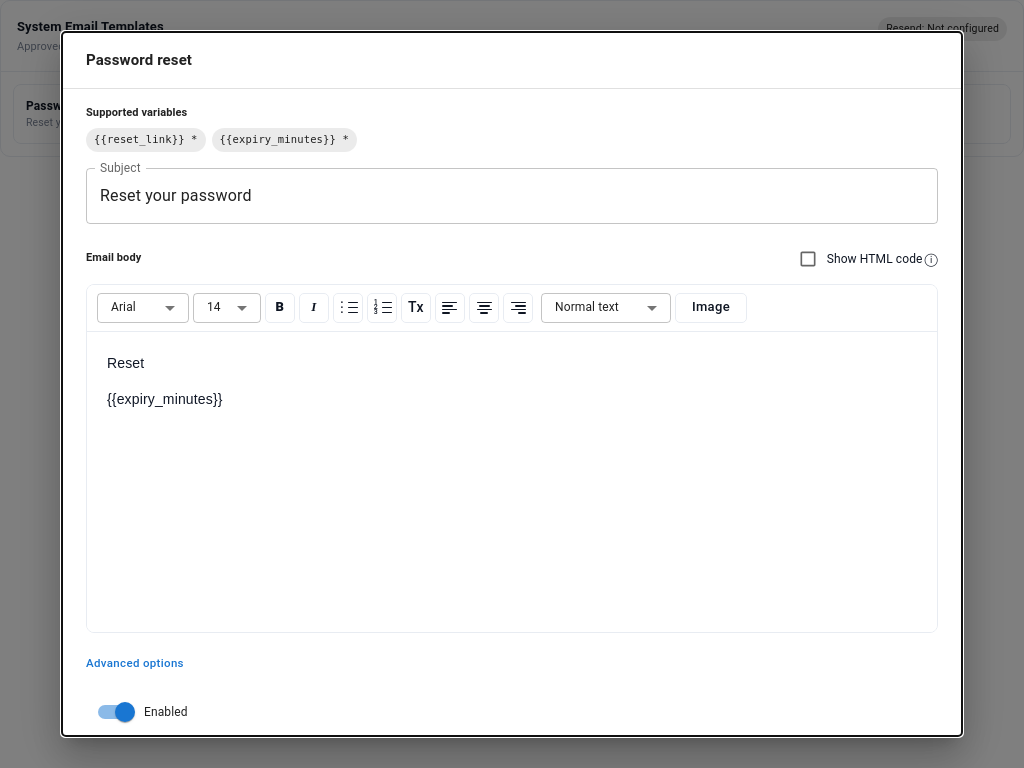
Test case: SystemEmailTemplatesPanel › saves changes and reports API errors
Replace the text in the field labelled "Subject" with "Updated reset subject": (512, 196) [86,168,938,224]
(page scrolled)
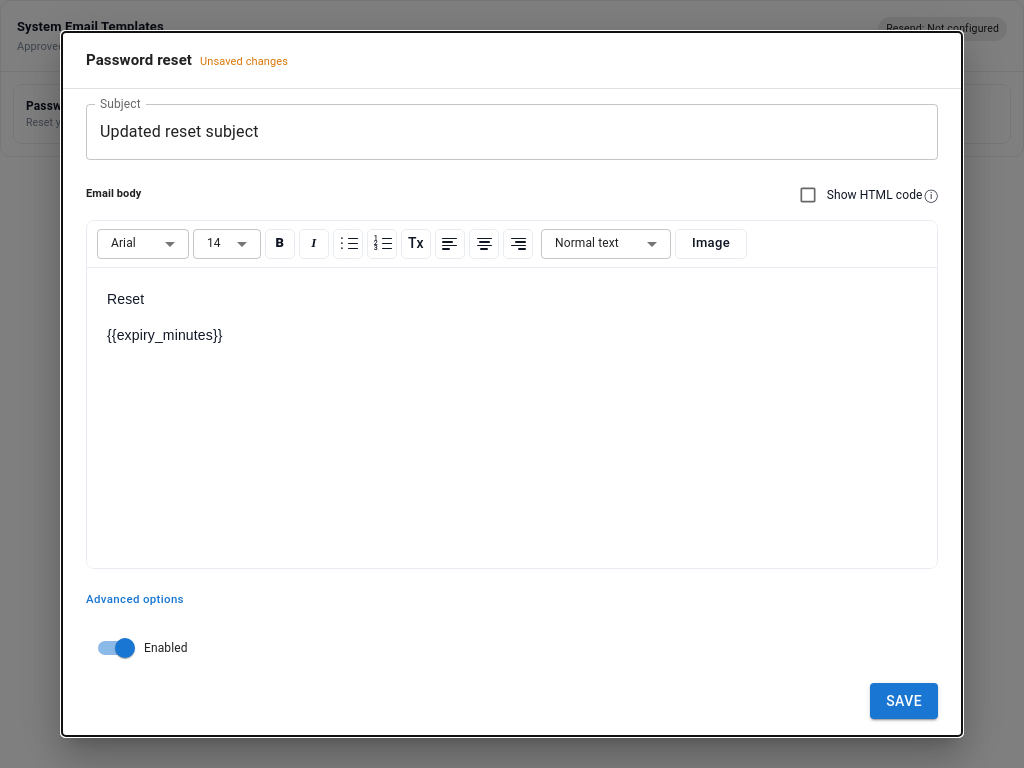
Click the button "Save": (904, 701) [870,683,938,719]
(page scrolled)
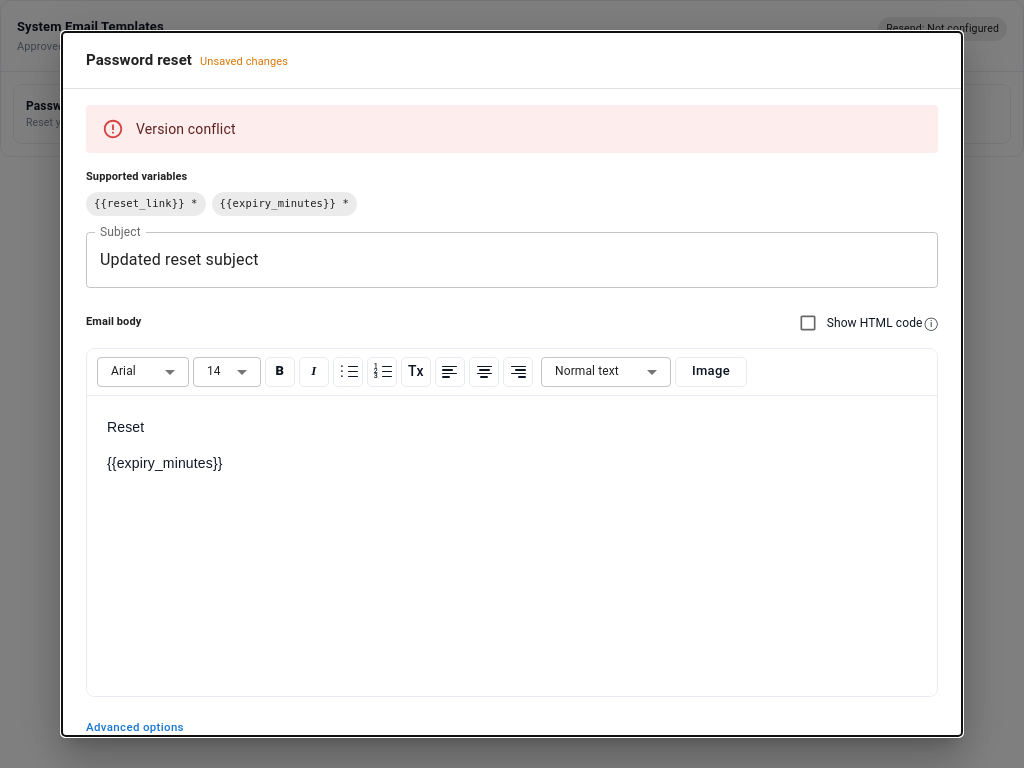
Check: the text "Version conflict" is shown, box [136,121,236,137]
